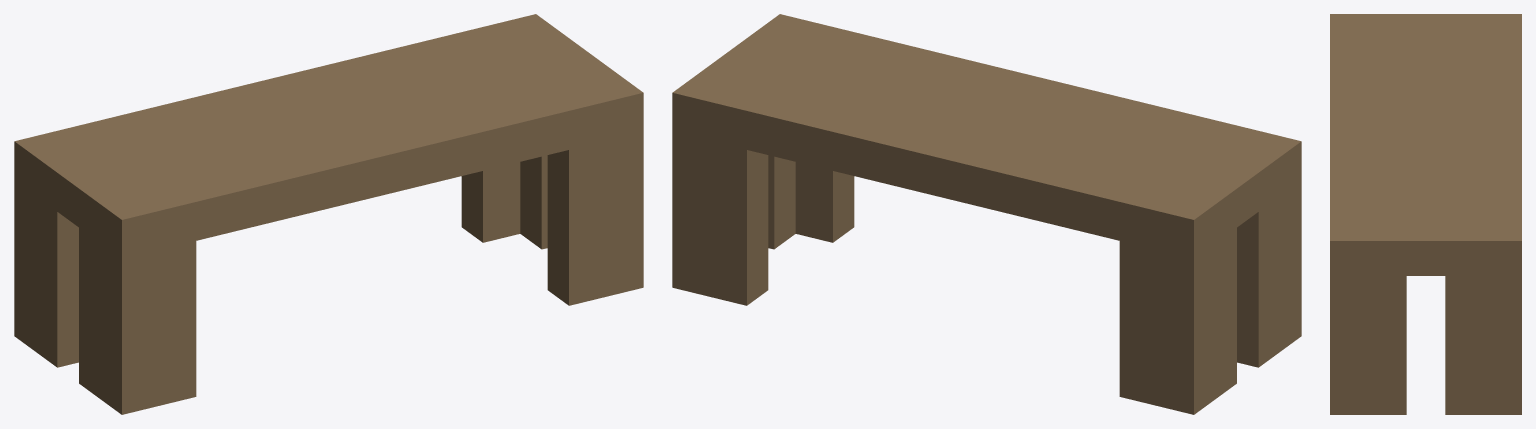
Rendered from Bench2.obj.
The picture shows the model from 3 angles, left to right: view 1: azimuth 30°, elevation 25°; view 2: azimuth 150°, elevation 25°; view 3: azimuth 270°, elevation 25°; orthographic projection. The views are drawn at different scales.
Parts seen in each view (by area): view 1: Bench2; view 2: Bench2; view 3: Bench2.
Boxes of the visible parts, x1,y1,x2,y2 form: Bench2: (14, 14, 643, 414); Bench2: (672, 14, 1301, 414); Bench2: (1330, 14, 1521, 414).
Size of the model in its own units: 14 by 5 by 5.
